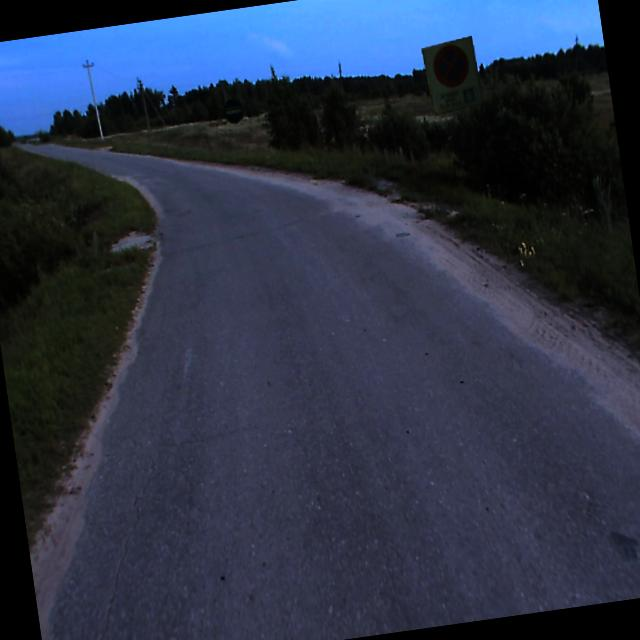road: (13, 142, 640, 640)
